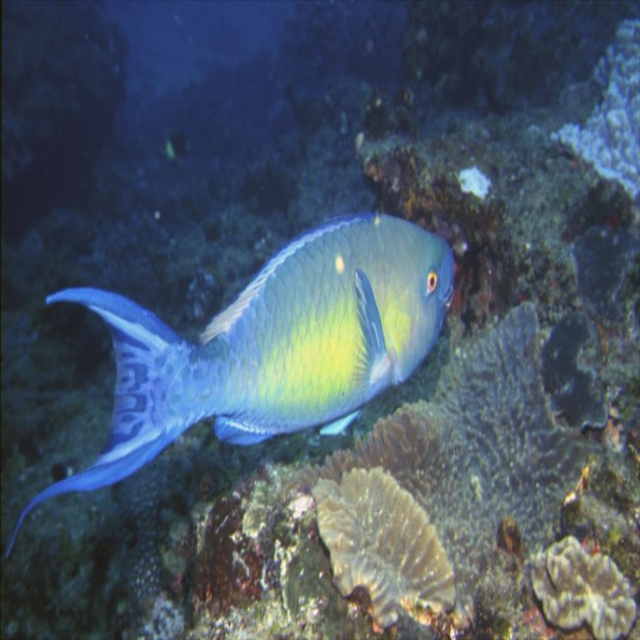Fish: (9, 207, 457, 555)
